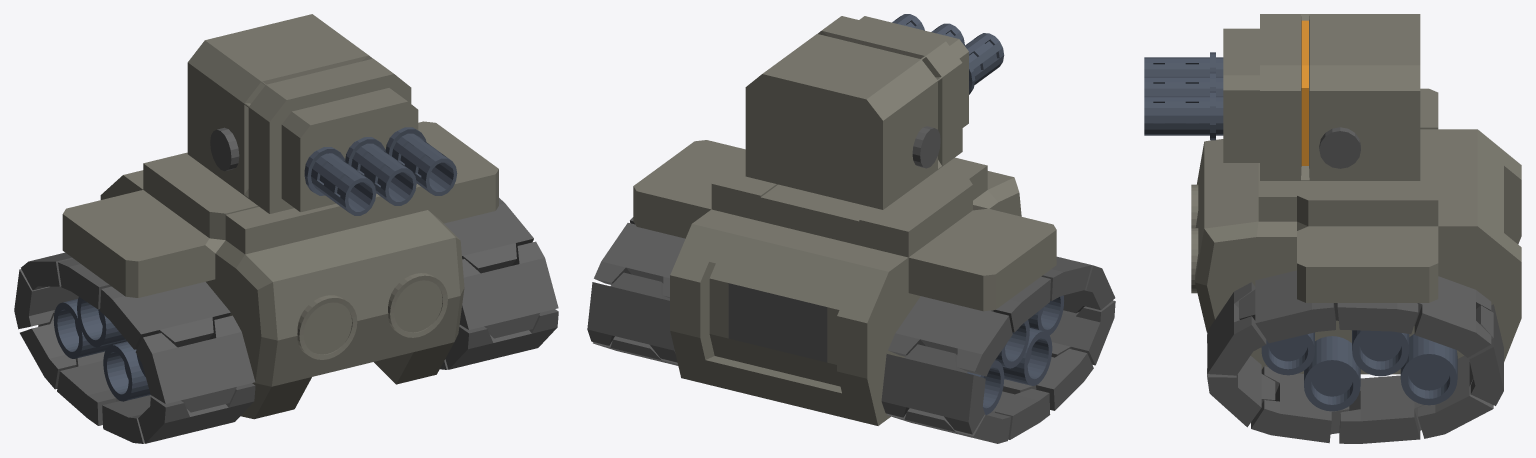
The model's file is tankGunBatterry.fbx.
3 renders of one model, left to right at view 1: azimuth 30°, elevation 25°; view 2: azimuth 150°, elevation 25°; view 3: azimuth 270°, elevation 25°, orthographic. The views are drawn at different scales.
Visible parts, largest first — view 1: tankBody.002, tracks.002, gunBatteryBody.001, gunBatteryBarrel.003, light.004, light.005, gunBatteryBarrel.005, gunBatteryBarrel.004, Cylinder.024, Cylinder.026, Cylinder.025, thingamajig.001; view 2: tankBody.002, tracks.002, gunBatteryBody.001, Cylinder.024, gunBatteryBarrel.003, thingamajig.001, Cylinder.025, Cylinder.026, Cylinder.023; view 3: tankBody.002, gunBatteryBody.001, tracks.002, Cylinder.024, gunBatteryBarrel.005, Cylinder.026, Cylinder.025, Cylinder.023, gunBatteryBarrel.003, gunBatteryBarrel.004, thingamajig.001, light.005.
Boxes of the visible parts, x1=… form: tankBody.002: x1=62, y1=121, x2=498, y2=419; tracks.002: x1=14, y1=198, x2=558, y2=443; gunBatteryBody.001: x1=187, y1=14, x2=418, y2=213; gunBatteryBarrel.003: x1=304, y1=147, x2=376, y2=215; light.004: x1=297, y1=295, x2=357, y2=359; light.005: x1=388, y1=273, x2=447, y2=337; gunBatteryBarrel.005: x1=385, y1=127, x2=457, y2=195; gunBatteryBarrel.004: x1=345, y1=137, x2=416, y2=205; Cylinder.024: x1=103, y1=341, x2=150, y2=401; Cylinder.026: x1=53, y1=299, x2=126, y2=358; Cylinder.025: x1=77, y1=297, x2=125, y2=347; thingamajig.001: x1=210, y1=127, x2=239, y2=171; tankBody.002: x1=633, y1=140, x2=1056, y2=425; tracks.002: x1=587, y1=217, x2=1115, y2=443; gunBatteryBody.001: x1=745, y1=16, x2=968, y2=209; Cylinder.024: x1=1003, y1=328, x2=1052, y2=385; gunBatteryBarrel.003: x1=965, y1=33, x2=1004, y2=94; thingamajig.001: x1=912, y1=126, x2=940, y2=168; Cylinder.025: x1=995, y1=320, x2=1029, y2=368; Cylinder.026: x1=967, y1=360, x2=1004, y2=414; Cylinder.023: x1=1028, y1=295, x2=1063, y2=335; tankBody.002: x1=1195, y1=88, x2=1521, y2=374; gunBatteryBody.001: x1=1223, y1=14, x2=1420, y2=180; tracks.002: x1=1207, y1=270, x2=1503, y2=443; Cylinder.024: x1=1304, y1=336, x2=1360, y2=411; gunBatteryBarrel.005: x1=1144, y1=91, x2=1223, y2=140; Cylinder.026: x1=1400, y1=334, x2=1457, y2=405; Cylinder.025: x1=1352, y1=330, x2=1409, y2=376; Cylinder.023: x1=1261, y1=332, x2=1314, y2=375; gunBatteryBarrel.003: x1=1144, y1=52, x2=1223, y2=76; gunBatteryBarrel.004: x1=1144, y1=71, x2=1223, y2=95; thingamajig.001: x1=1319, y1=127, x2=1360, y2=168; light.005: x1=1191, y1=228, x2=1198, y2=293.
Size of the model in its own units: 285 by 221 by 242.
Materials: 3 (3 with a texture image).
